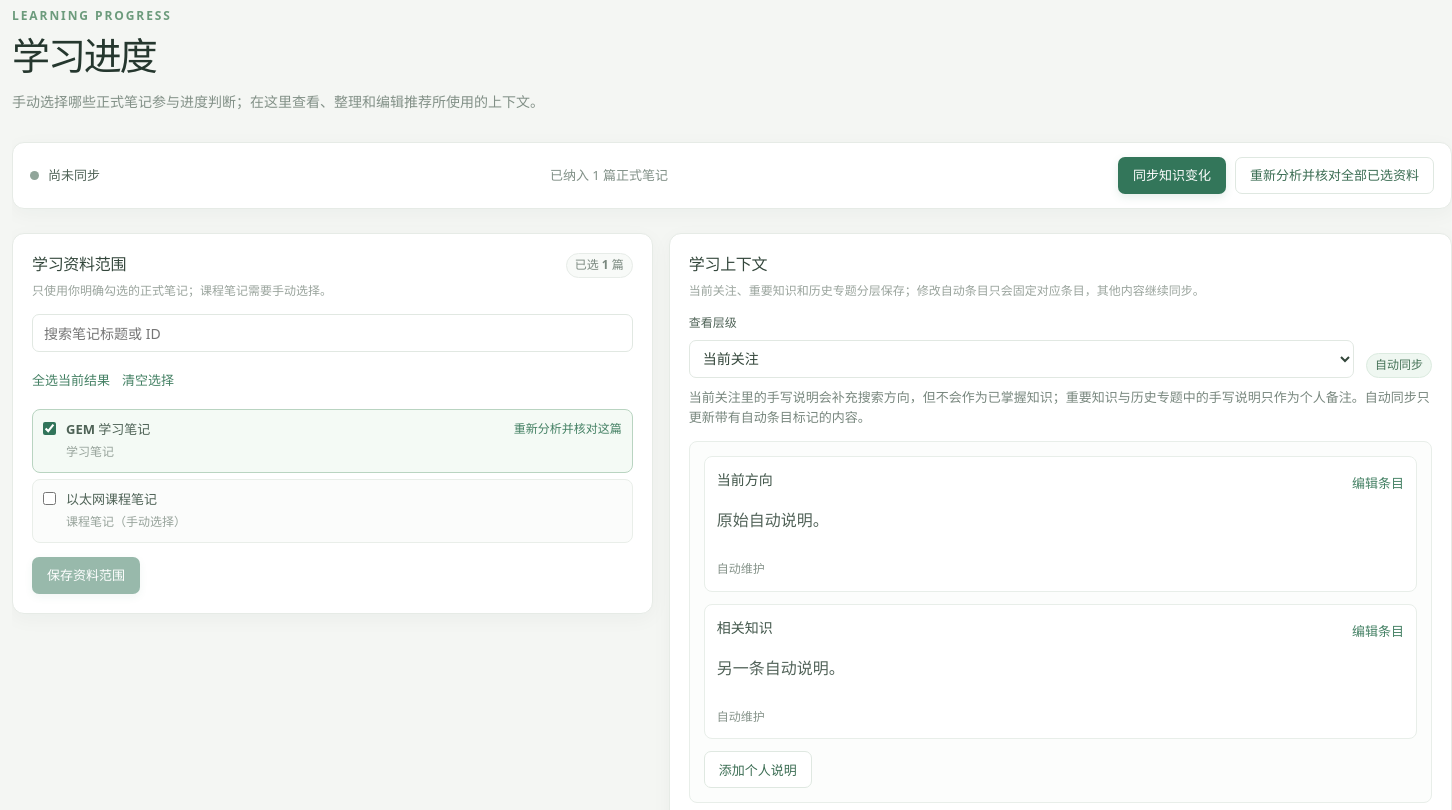
学习进度上下文 page › runs learning context sync only after the user presses its explicit action
Click the button "同步知识变化". click: (1172,176)
box: [1118,157,1226,194]
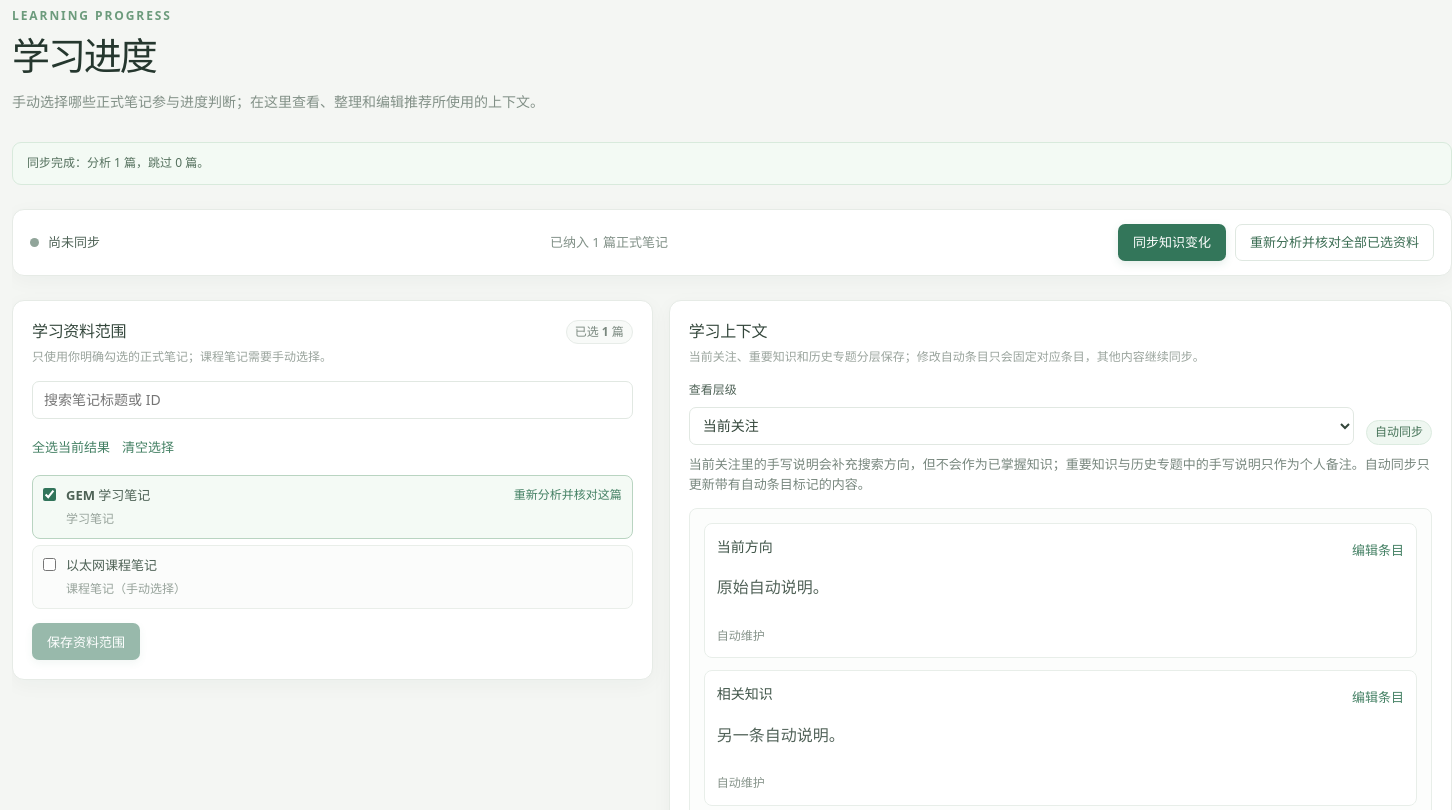
Now the text "同步完成：分析 1 篇，跳过 0 篇。" is shown, box [12,142,1451,185]
